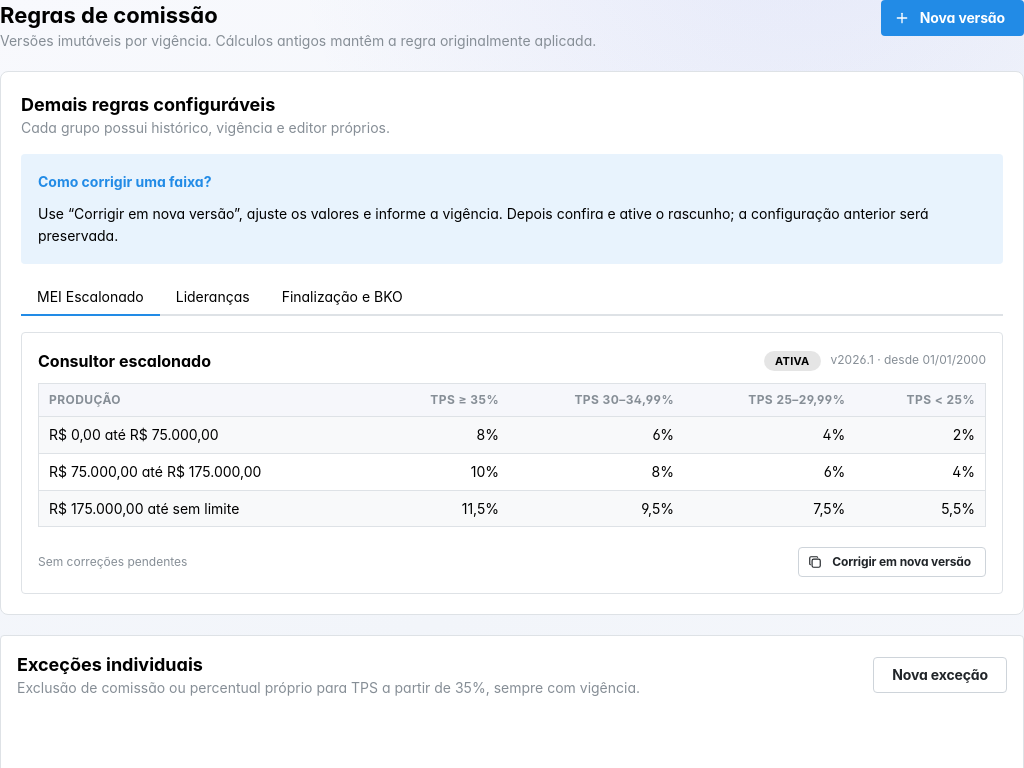
Test case: CommissionRulesPage › mantém os limites vizinhos sincronizados
Click the button "Nova versão": (952, 18) [881,0,1023,36]
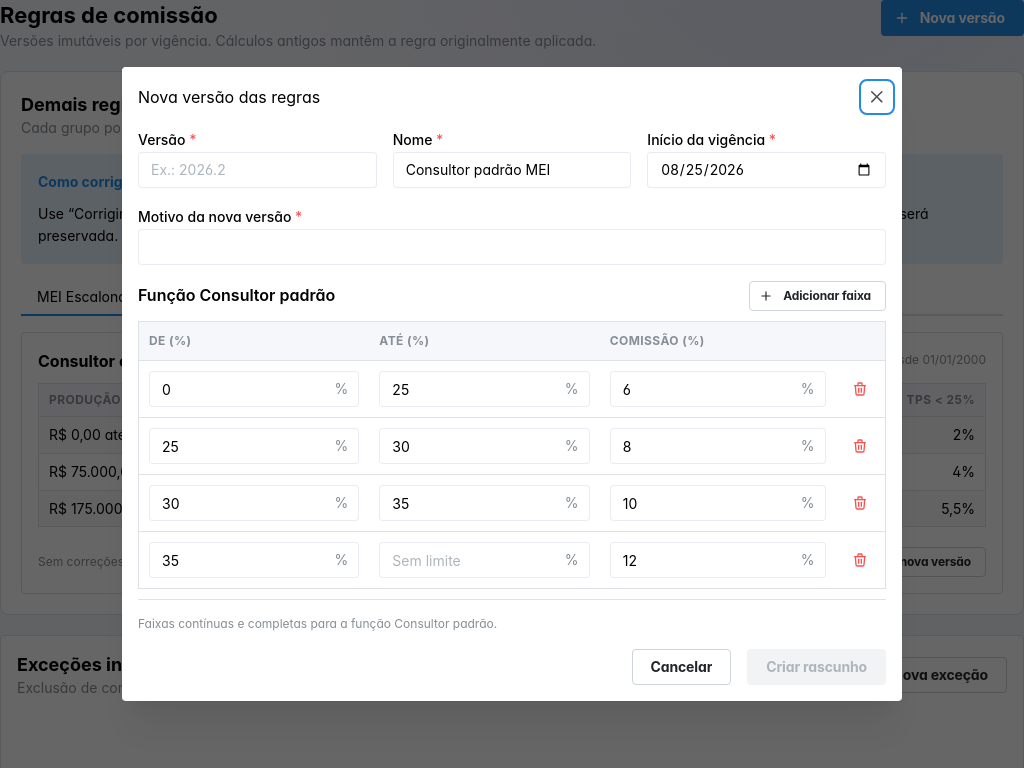
Clear the field named "TPS máximo MEI": (484, 389) [379,371,590,407]
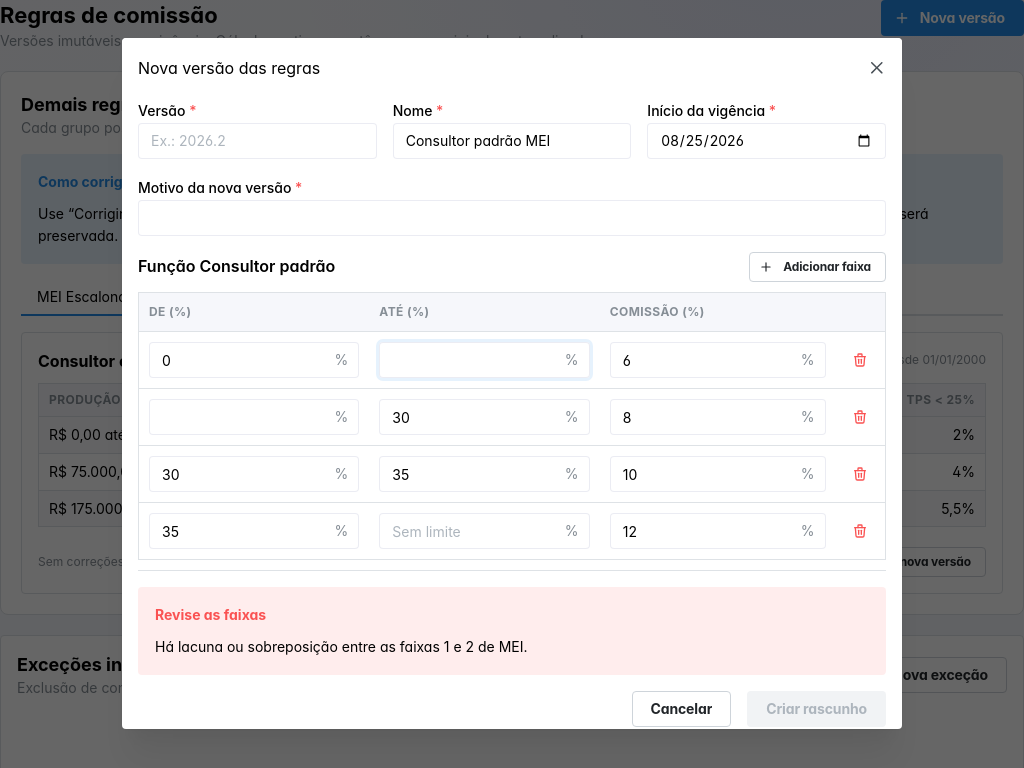
In the field named "TPS máximo MEI": (484, 361) [379,343,590,379], type "26,5"
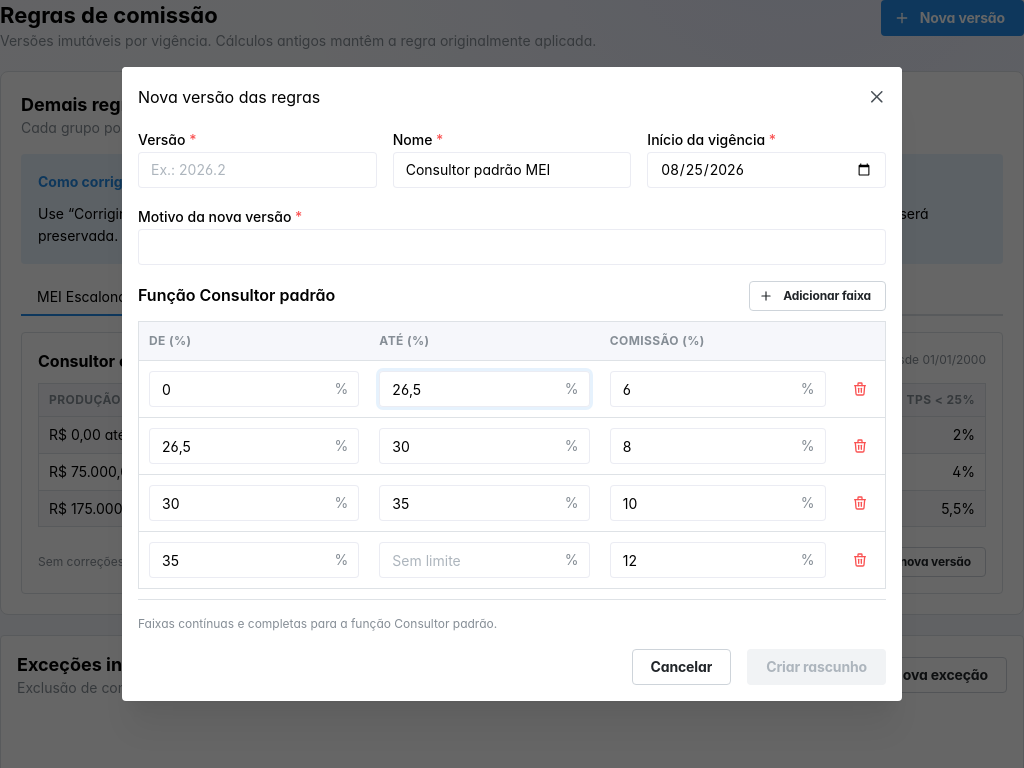
Result: the field named "TPS mínimo MEI" holds "26,5" at [149,428,359,464]
